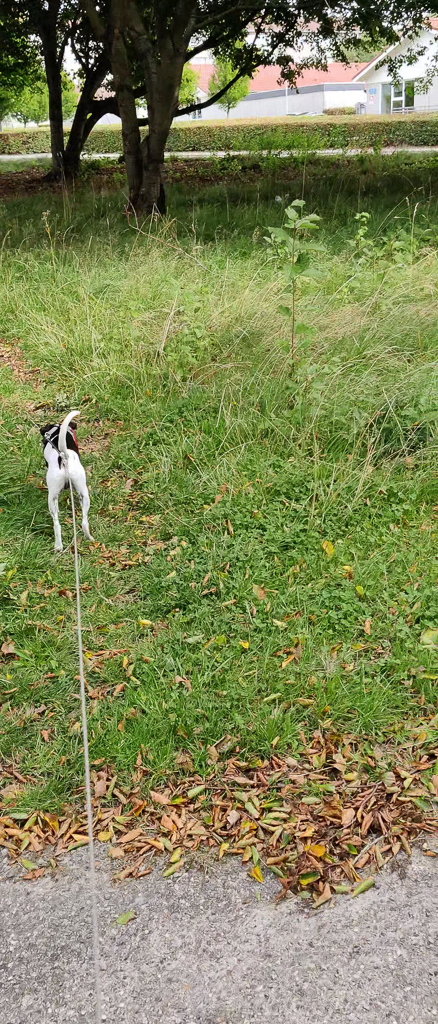Dog: (26, 403, 109, 563)
